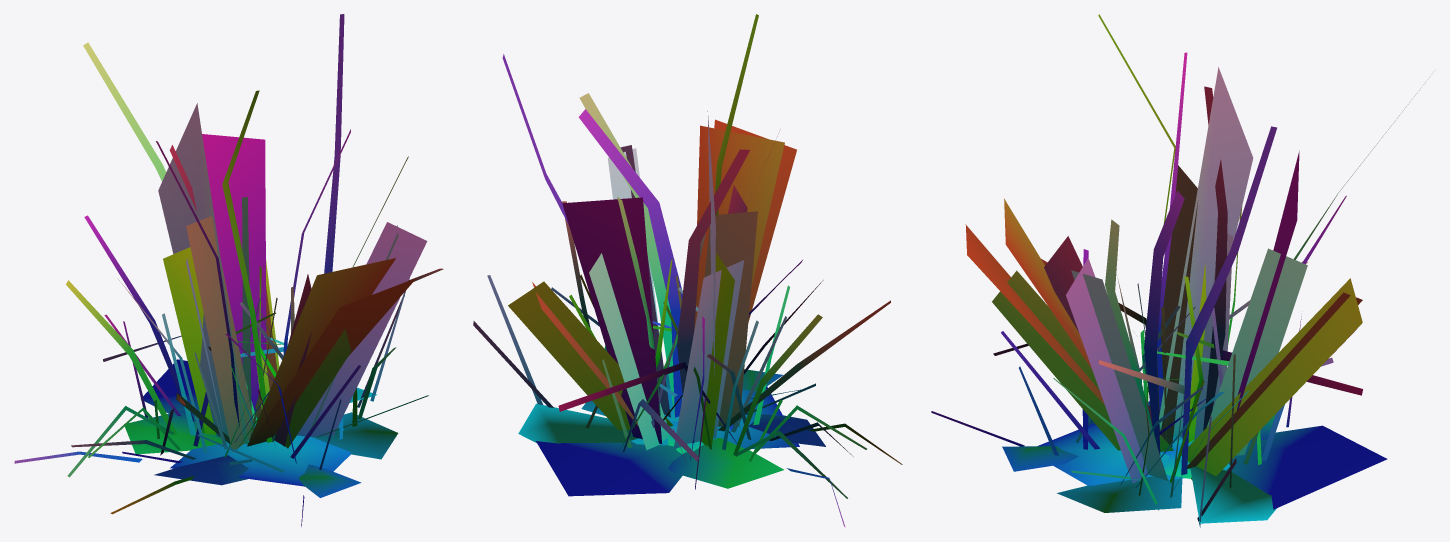
The model's file is uddmcgbia_VarJ_LOD1.fbx.
3 renders of one model, left to right at view 1: azimuth 30°, elevation 25°; view 2: azimuth 150°, elevation 25°; view 3: azimuth 270°, elevation 25°, orthographic. The views are drawn at different scales.
Visible parts, largest first — view 1: _8956_VarJ_LOD3; view 2: _8956_VarJ_LOD3; view 3: _8956_VarJ_LOD3.
Boxes of the visible parts, x1=… form: _8956_VarJ_LOD3: x1=14, y1=14, x2=443, y2=526; _8956_VarJ_LOD3: x1=473, y1=14, x2=902, y2=527; _8956_VarJ_LOD3: x1=931, y1=14, x2=1432, y2=527.
Size of the model in its own units: 23.4 by 23.72 by 24.73.
